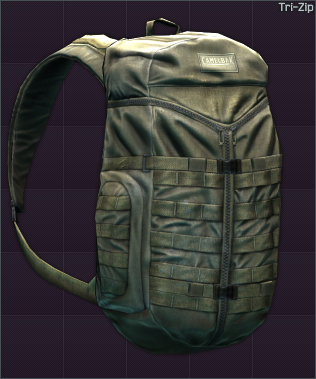Camelbak Tri-Zip backpack: (0, 0, 316, 379)
